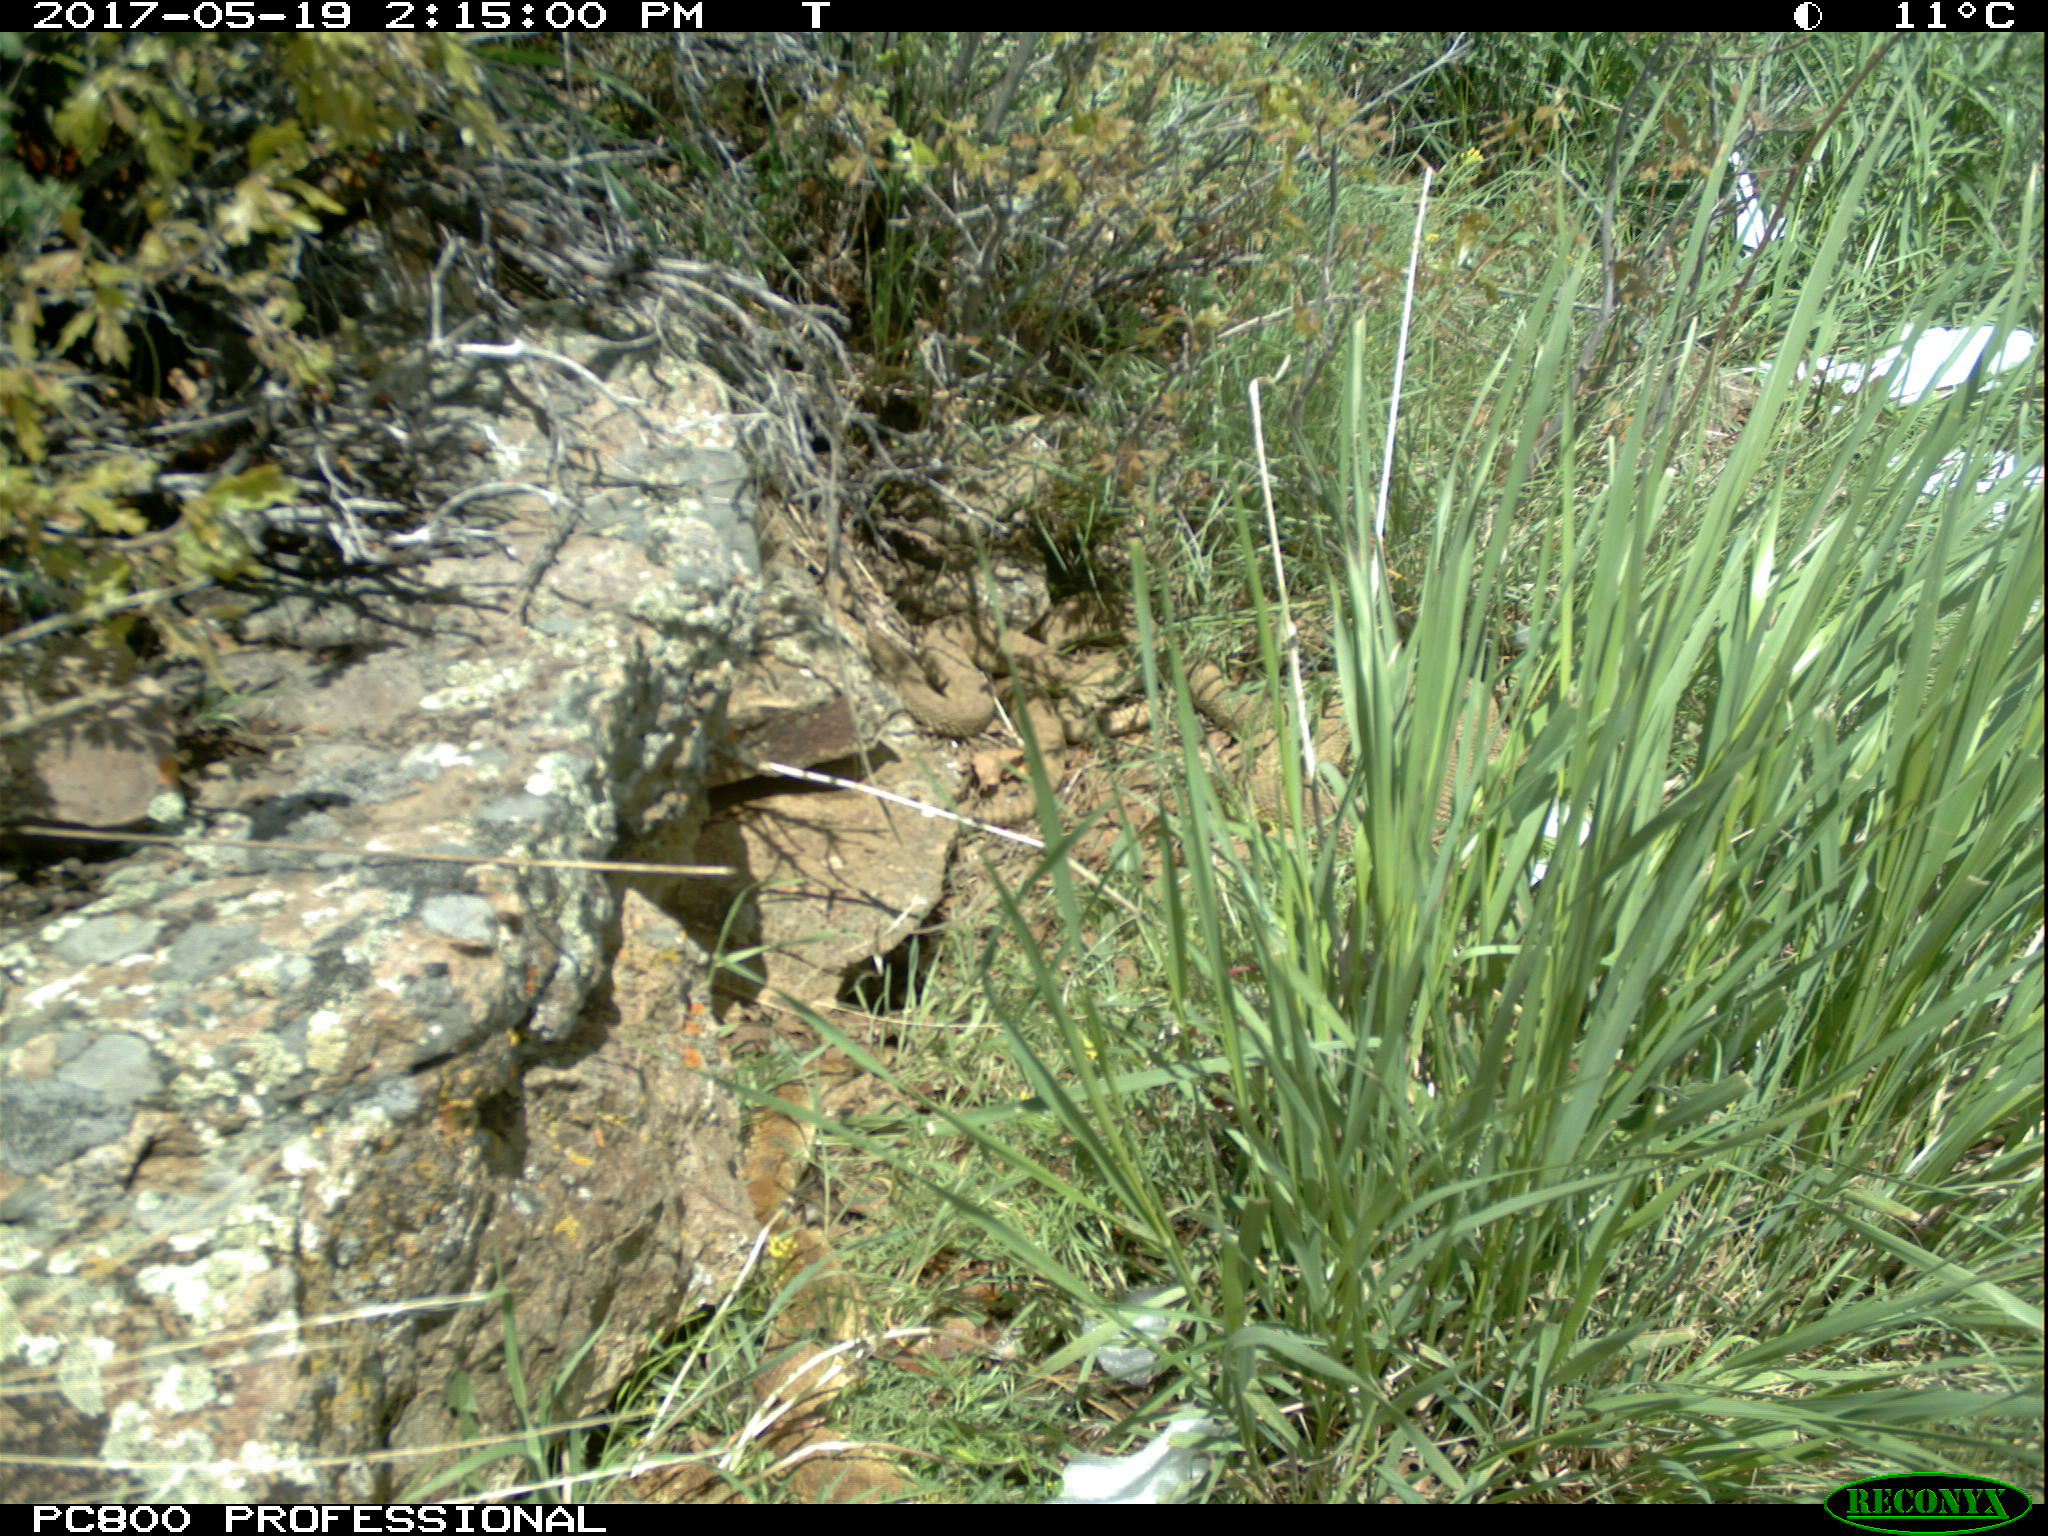snake: (726, 1026, 880, 1499), (1163, 657, 1498, 828), (860, 611, 1093, 739), (974, 649, 1084, 829)
